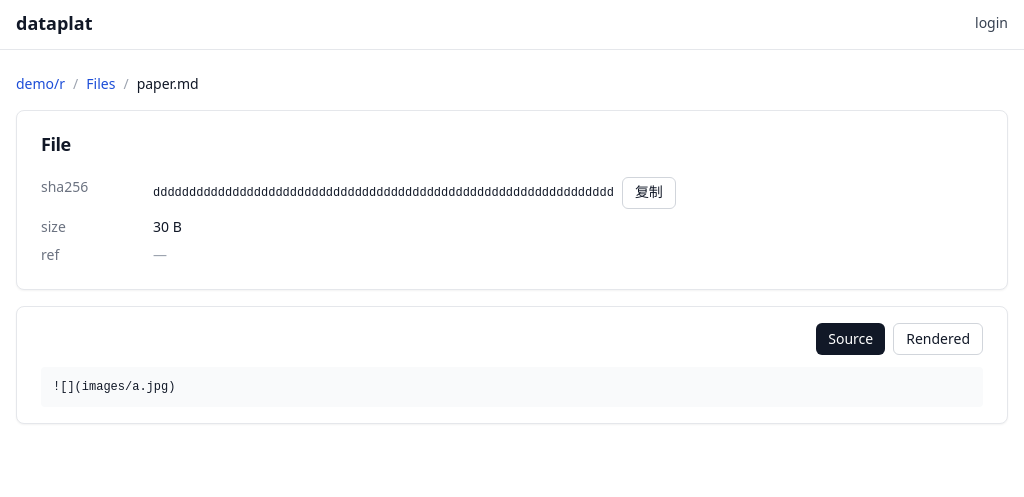
Test: BlobPage rendering › md image but no commit param → 透传原 src + 提示
What coordinates should you click on to do the following:
click the button "Rendered"
I would click on:
 (938, 339)
Its box is [893, 323, 983, 355].
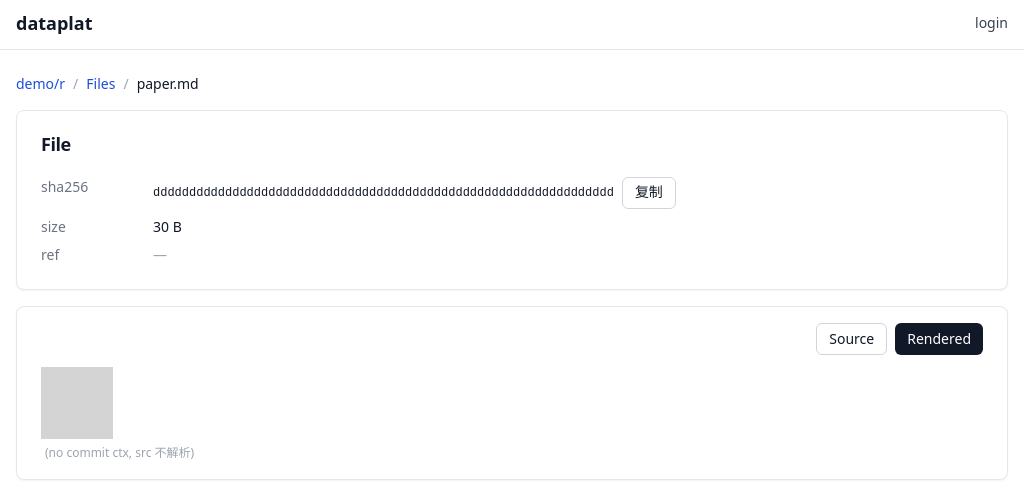
Check: the text "(no commit ctx, src 不解析)" is shown, box [45, 444, 194, 461]
